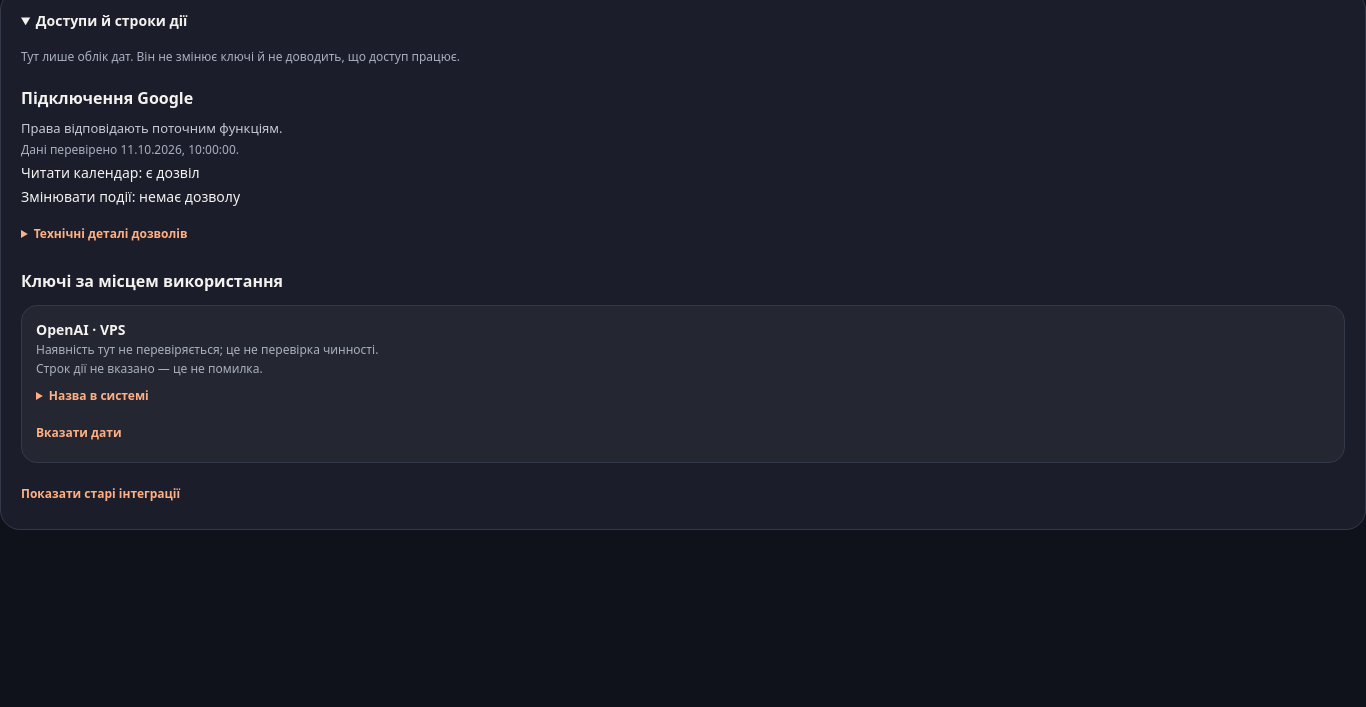
Test: retains edited dates after a failed save and never shows a success receipt
The width and height of the screenshot is (1366, 707).
Click the button "Вказати дати" at (79, 433), box [36,418,122,448]
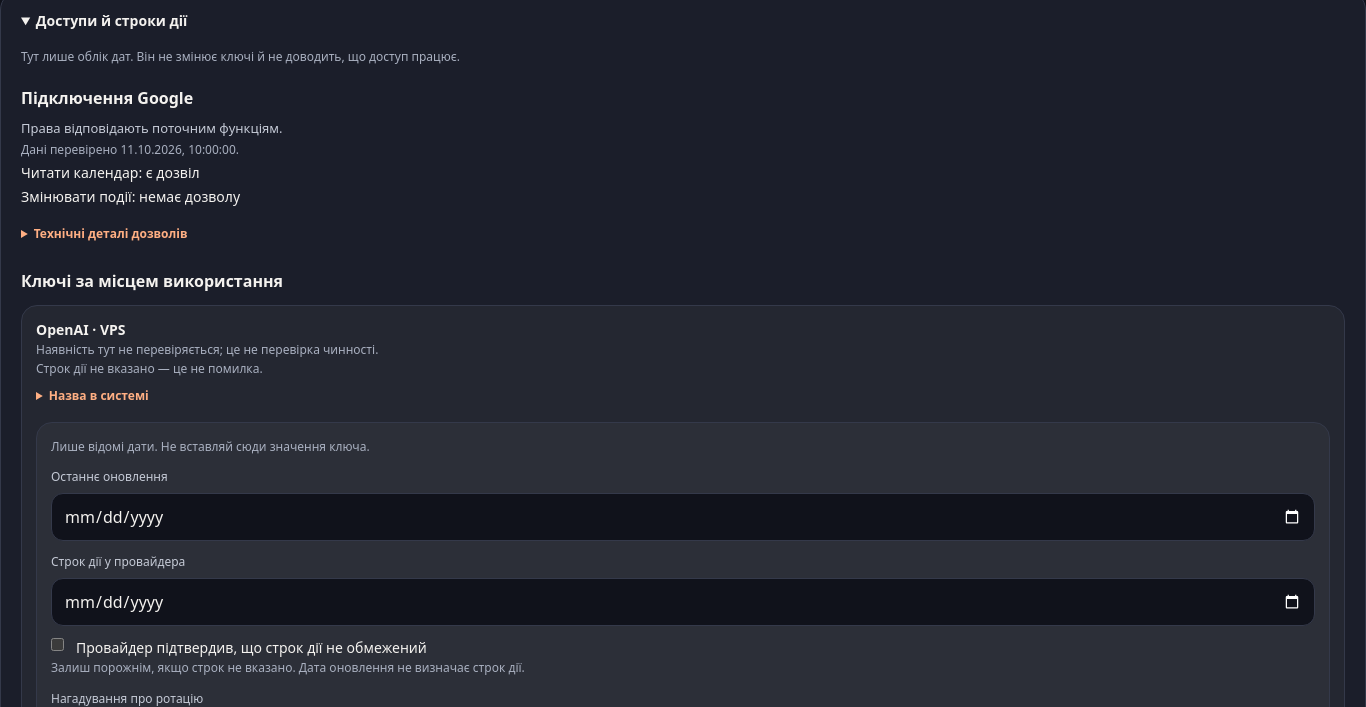
Type "2026-10-01" into the date field labelled "Останнє оновлення" at (683, 517), box [51,493,1315,541]
(page scrolled)
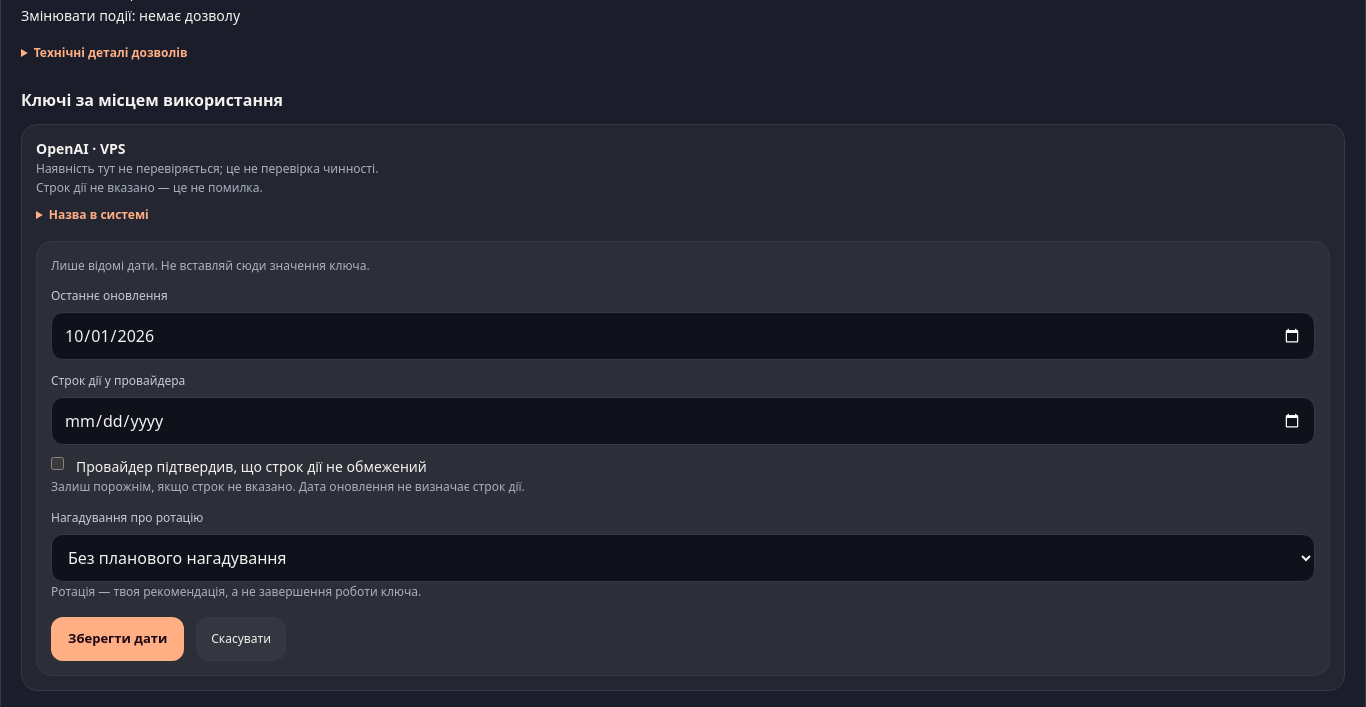
Click the button "Зберегти дати" at (118, 639), box [51,617,184,661]
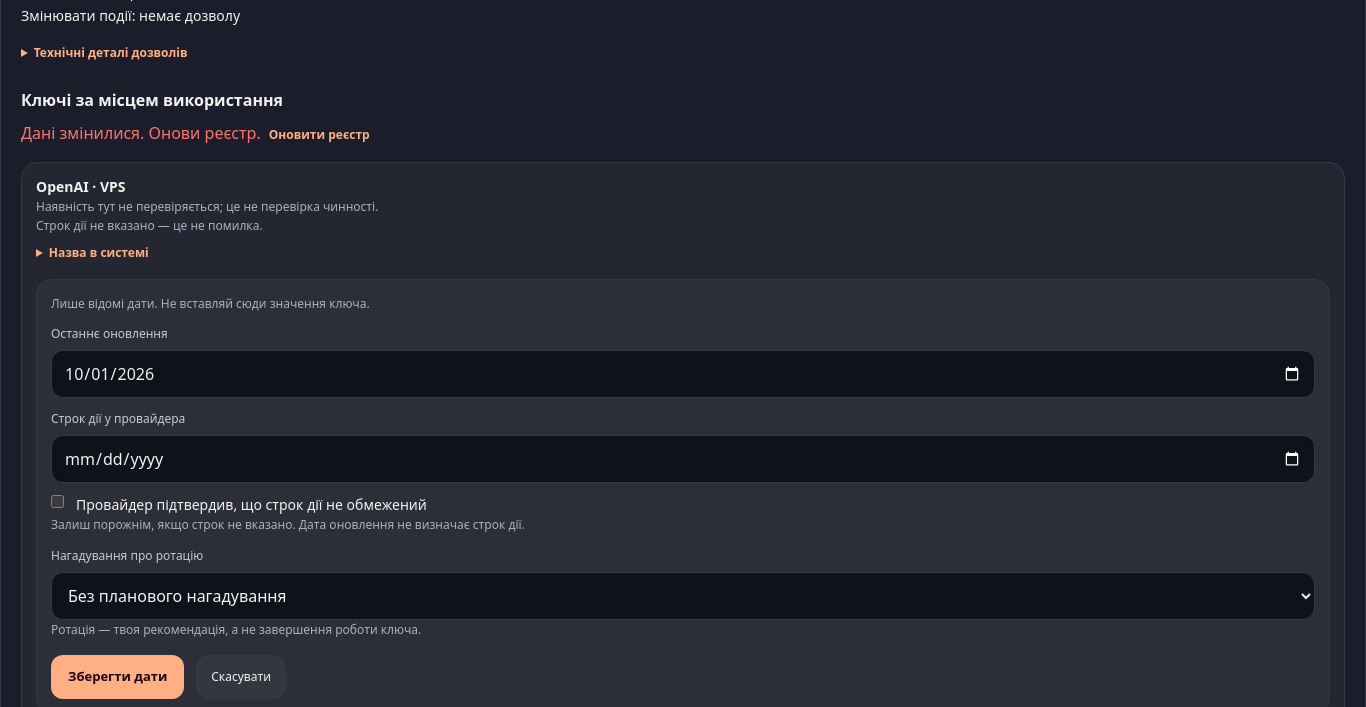
Check: the message shows "Дані змінилися", box [21,122,261,144]
